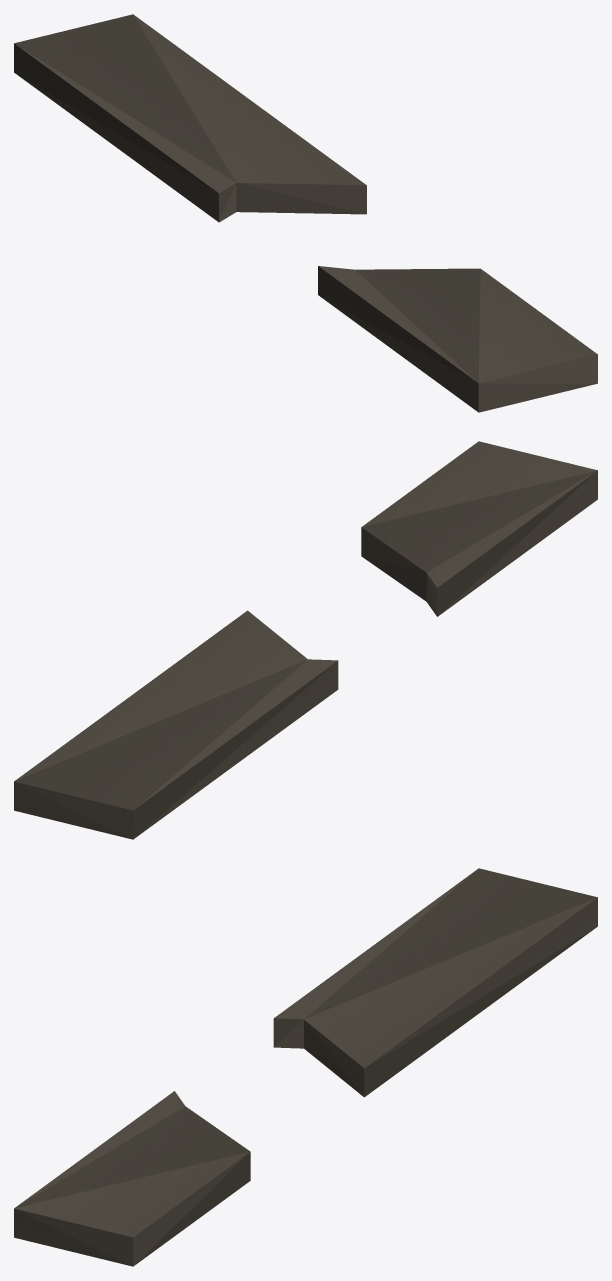
The model's file is Wood_1G.fbx.
3 views of the same model, one above another, from view 1: azimuth 30°, elevation 25°; view 2: azimuth 150°, elevation 25°; view 3: azimuth 330°, elevation 25° (orthographic).
Parts seen in each view (by area): view 1: polySurface1072; view 2: polySurface1072; view 3: polySurface1072.
Boxes of the visible parts, box(x1,y1,x2,y2) form: polySurface1072: box(14, 14, 597, 412); polySurface1072: box(14, 441, 597, 839); polySurface1072: box(14, 868, 597, 1266).
Bounding box in the file's own units: 0.385 × 0.09 × 2.6.
